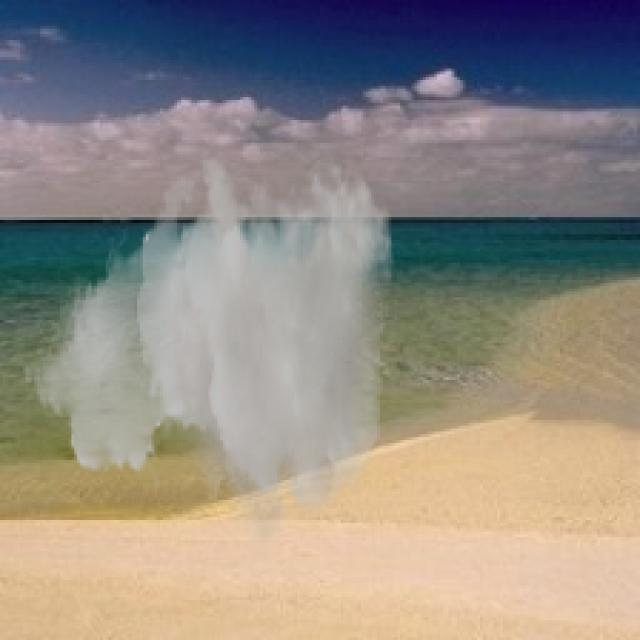Smoke: (22, 155, 394, 560)
